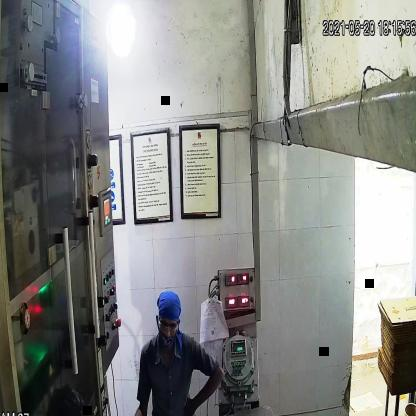goggles: (154, 312, 182, 337)
